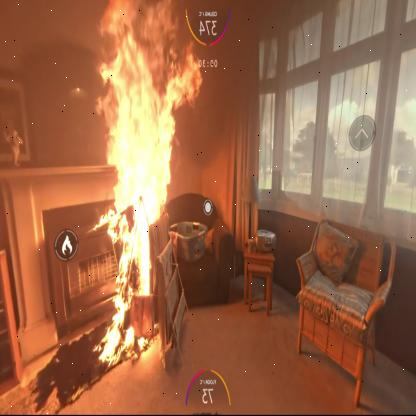fire: (94, 0, 197, 368)
smoke: (171, 3, 416, 254), (0, 6, 98, 325)
